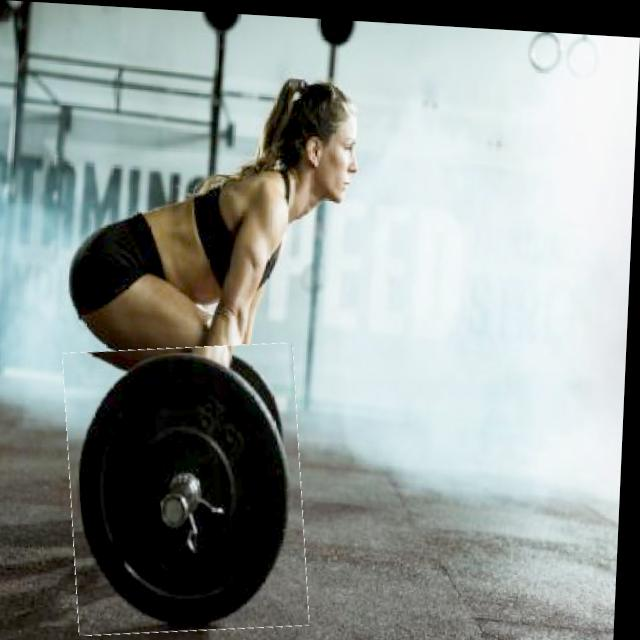barbell: (64, 335, 318, 640)
